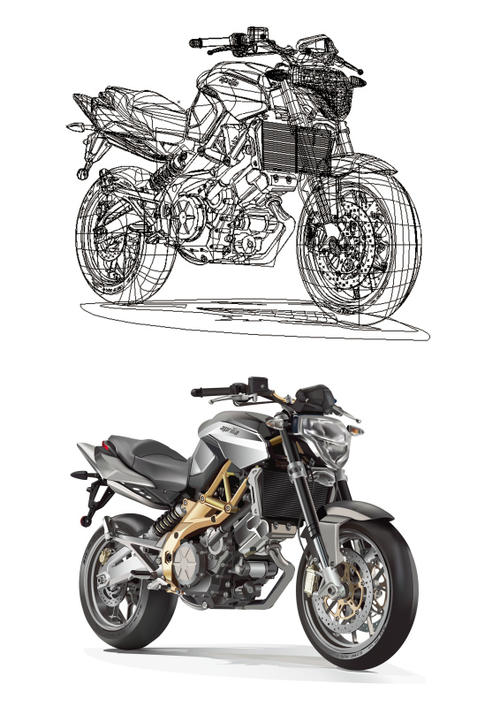motor: (64, 371, 420, 668)
